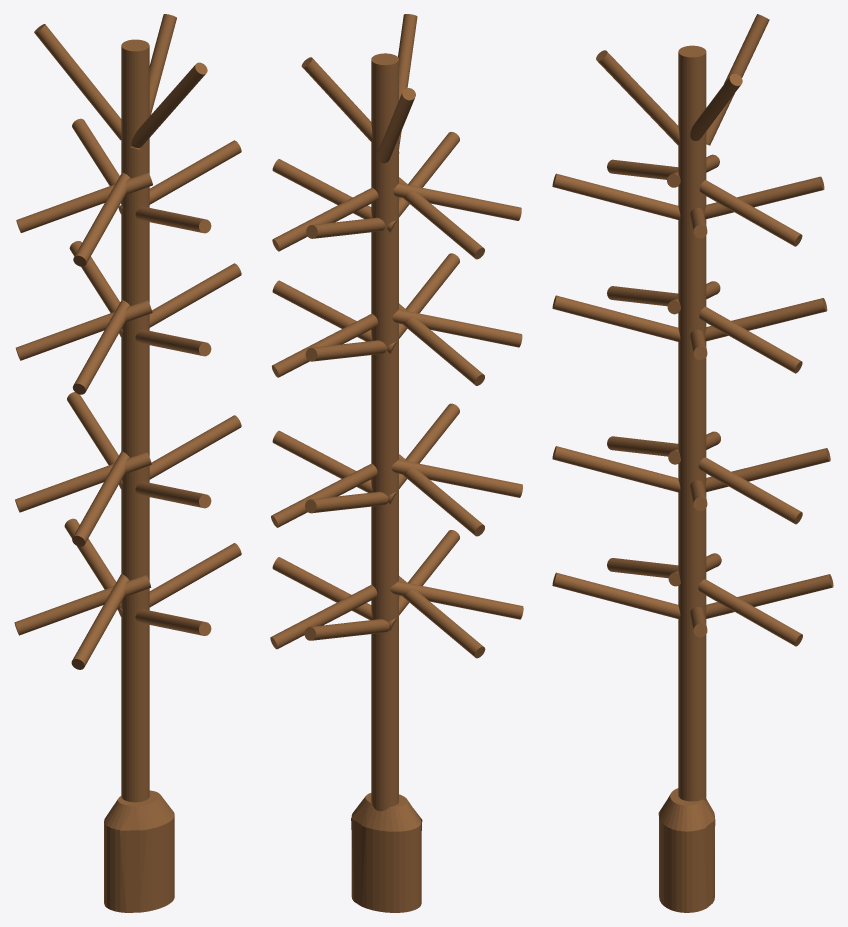
File: spindle3D.dae
3 renders of one model, left to right at view 1: azimuth 30°, elevation 25°; view 2: azimuth 150°, elevation 25°; view 3: azimuth 270°, elevation 25°, orthographic.
Visible parts, largest first — view 1: Cylinder.001, Cylinder, Cylinder.046, Cylinder.032, Cylinder.031, Cylinder.033, Cylinder.034, Cylinder.012, Cylinder.010, Cylinder.026, Cylinder.011, Cylinder.045 (+13 smaller); view 2: Cylinder.001, Cylinder, Cylinder.006, Cylinder.007, Cylinder.009, Cylinder.008, Cylinder.042, Cylinder.040, Cylinder.041, Cylinder.044, Cylinder.026, Cylinder.034 (+17 smaller); view 3: Cylinder.001, Cylinder, Cylinder.002, Cylinder.003, Cylinder.005, Cylinder.004, Cylinder.042, Cylinder.041, Cylinder.045, Cylinder.039, Cylinder.040, Cylinder.028 (+9 smaller).
Part boxes in pixels (left/top/right/bottom): Cylinder.001: left=121, top=39, right=149, bottom=802; Cylinder: left=104, top=790, right=174, bottom=912; Cylinder.046: left=34, top=24, right=121, bottom=140; Cylinder.032: left=16, top=172, right=152, bottom=232; Cylinder.031: left=15, top=300, right=152, bottom=360; Cylinder.033: left=15, top=451, right=151, bottom=512; Cylinder.034: left=14, top=574, right=151, bottom=635; Cylinder.012: left=118, top=543, right=241, bottom=616; Cylinder.010: left=118, top=140, right=241, bottom=213; Cylinder.026: left=119, top=415, right=241, bottom=488; Cylinder.011: left=119, top=263, right=241, bottom=336; Cylinder.045: left=131, top=62, right=207, bottom=147; Cylinder.001: left=371, top=53, right=398, bottom=811; Cylinder: left=351, top=793, right=422, bottom=912; Cylinder.006: left=390, top=581, right=523, bottom=619; Cylinder.007: left=391, top=459, right=522, bottom=497; Cylinder.009: left=392, top=309, right=522, bottom=347; Cylinder.008: left=393, top=183, right=521, bottom=220; Cylinder.042: left=270, top=584, right=377, bottom=649; Cylinder.040: left=272, top=187, right=378, bottom=251; Cylinder.041: left=271, top=463, right=377, bottom=527; Cylinder.044: left=301, top=57, right=399, bottom=153; Cylinder.026: left=272, top=430, right=396, bottom=504; Cylinder.034: left=399, top=576, right=485, bottom=658; Cylinder.001: left=678, top=45, right=706, bottom=801; Cylinder: left=658, top=788, right=715, bottom=912; Cylinder.002: left=552, top=446, right=680, bottom=492; Cylinder.003: left=552, top=572, right=680, bottom=619; Cylinder.005: left=552, top=173, right=680, bottom=220; Cylinder.004: left=552, top=295, right=680, bottom=341; Cylinder.042: left=698, top=579, right=802, bottom=646; Cylinder.041: left=698, top=457, right=802, bottom=524; Cylinder.045: left=596, top=50, right=679, bottom=145; Cylinder.039: left=699, top=306, right=802, bottom=373; Cylinder.040: left=699, top=180, right=802, bottom=246; Cylinder.028: left=706, top=574, right=833, bottom=618.
Bounding box in the file's own units: 0.8919 × 1.01 × 3.38.
